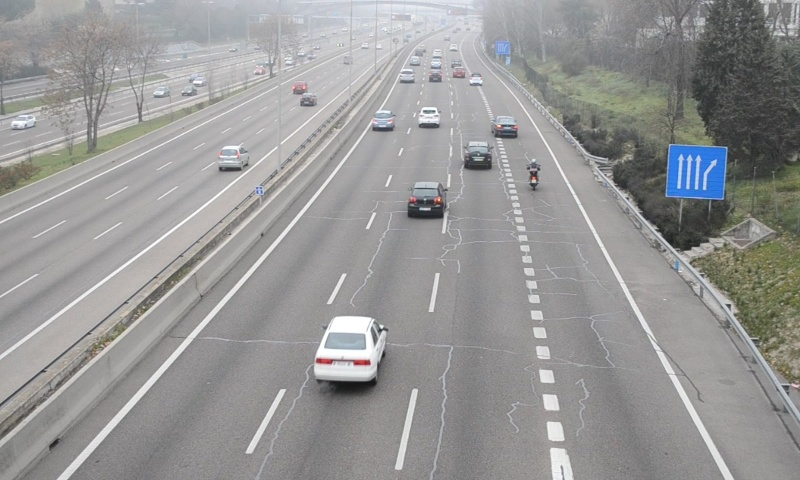car: (312, 317, 385, 381), (406, 182, 445, 216), (462, 142, 493, 169), (492, 116, 518, 139), (371, 109, 395, 130), (418, 107, 441, 127), (398, 67, 414, 83)
motorcycle: (526, 158, 541, 192)
